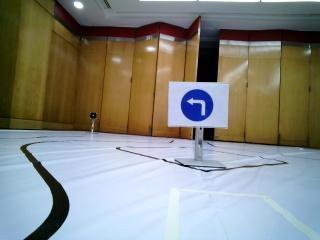left: (174, 83, 218, 124)
